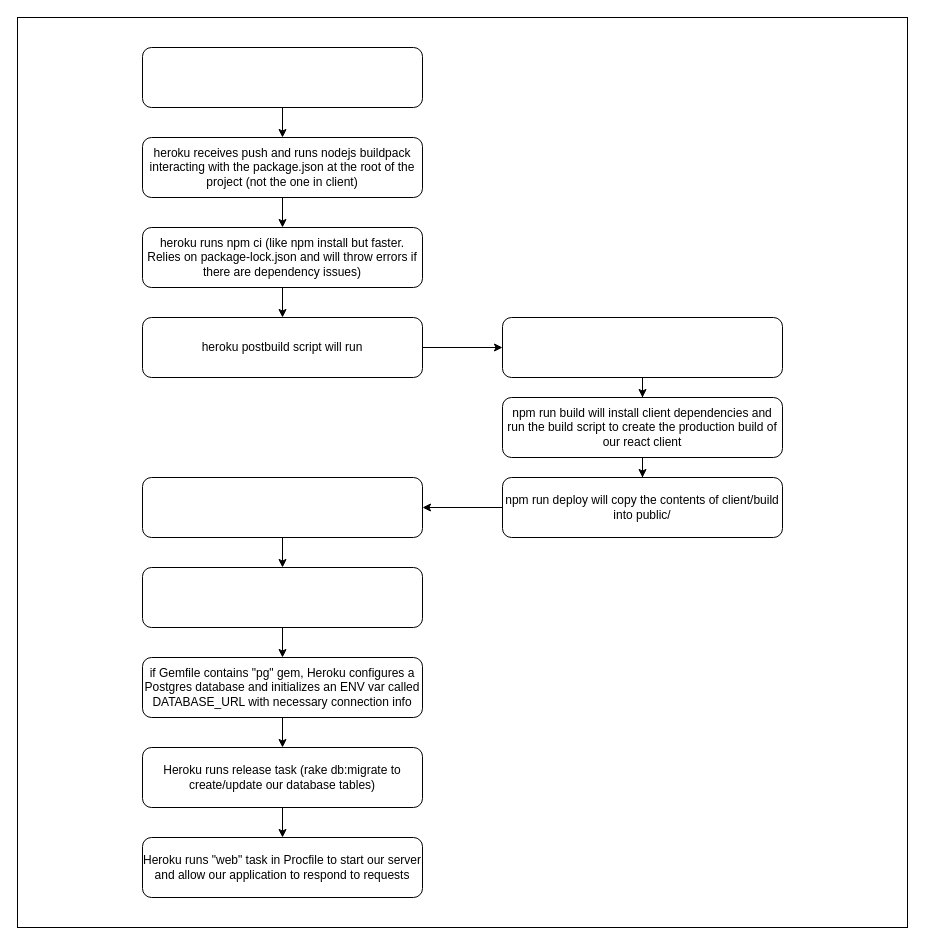
Some shapes in this 925 by 945 pixel diagram are drawn without their labels. Here are the shapes that lost their labels. From the top down, the centre of each, then its label:
[282,77]: git push heroku master
[642,347]: npm run clean will remove the public folder
[282,507]: heroku runs ruby buildpack
[282,597]: bundle install
